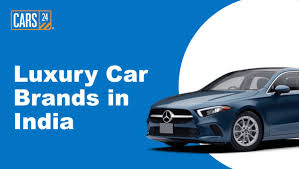car: (147, 66, 299, 153)
